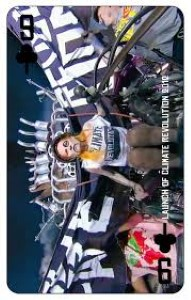NineOfClubs: (5, 2, 188, 293)
